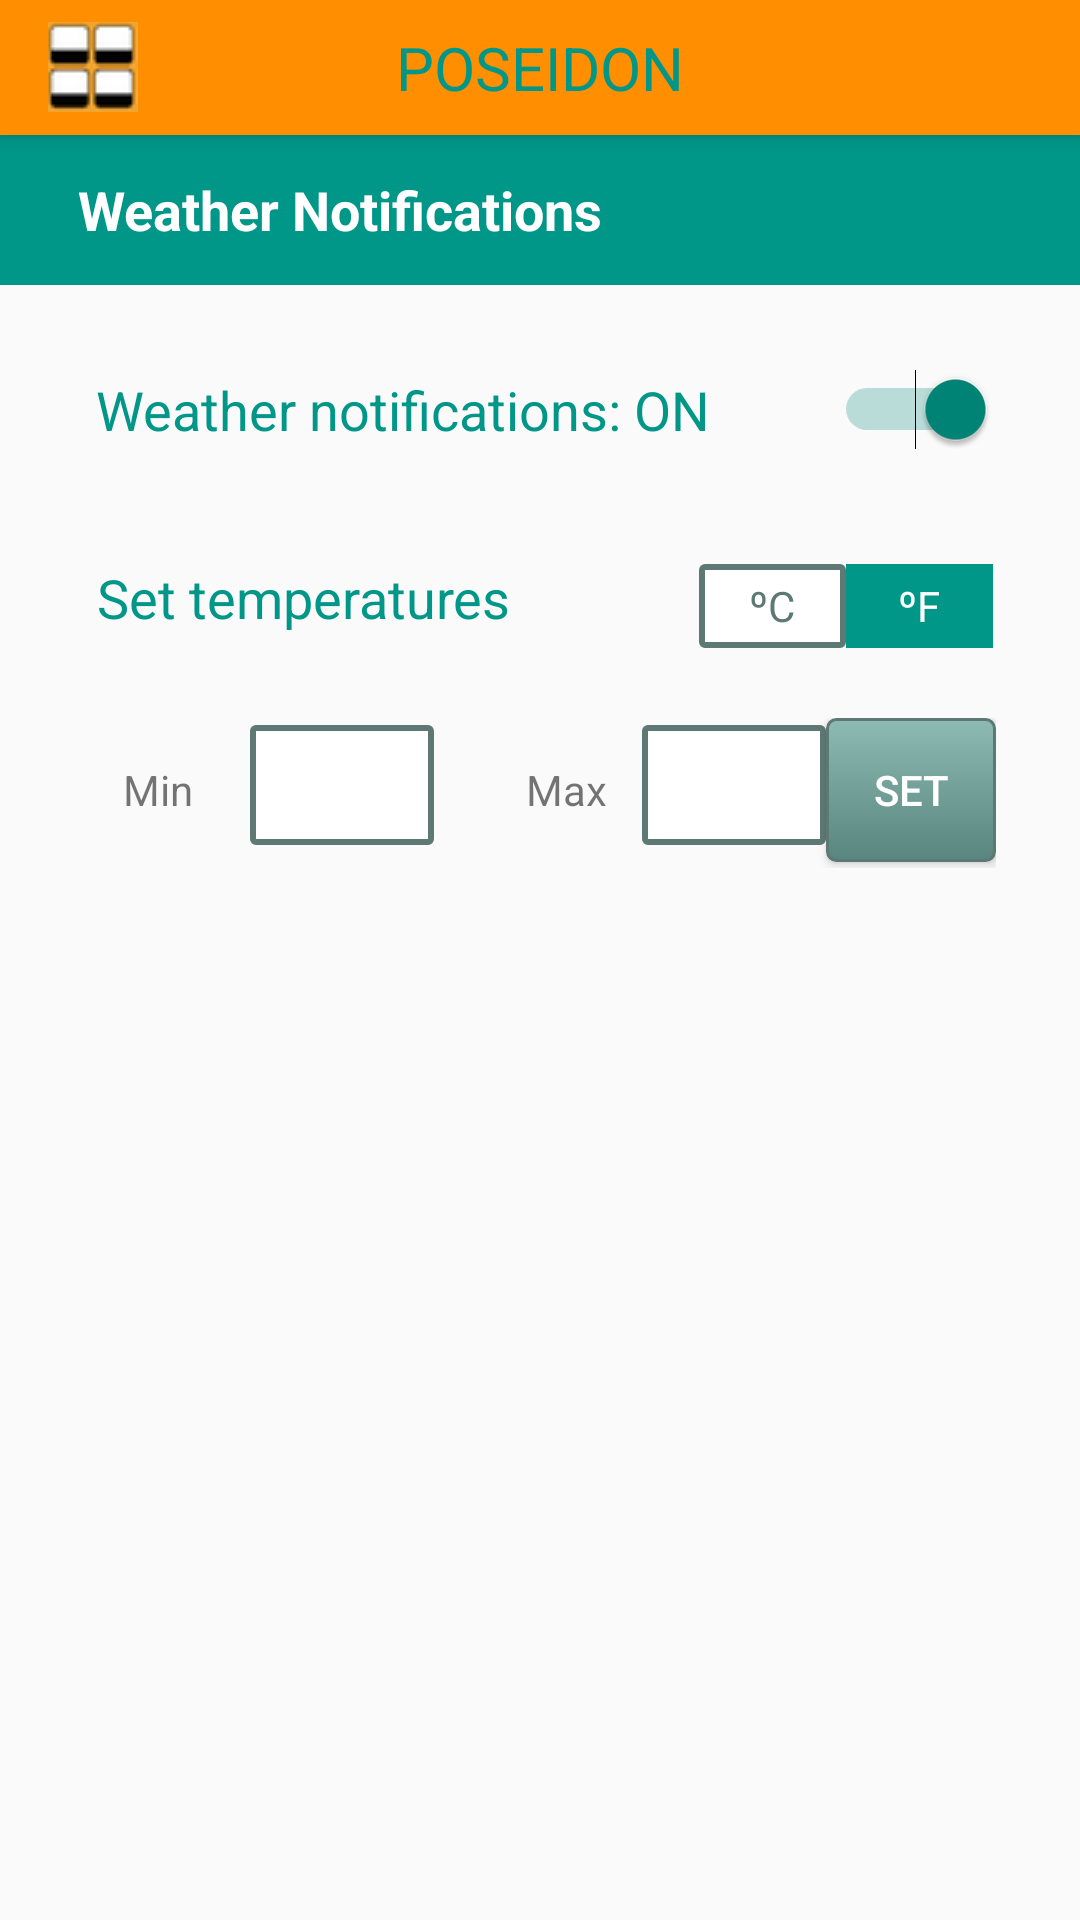

Point at icon controls on the screen. Image size 1080x1920, points as (x=x, y=y).
homebutton: (x=93, y=67)
